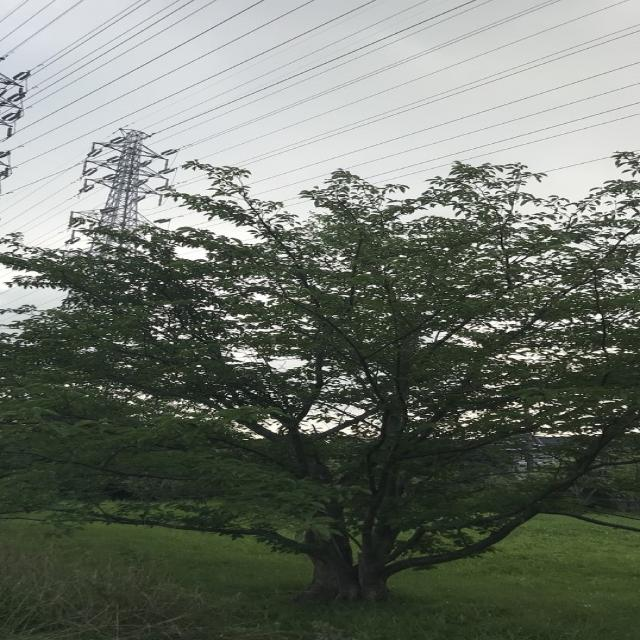sakura: (0, 150, 640, 604)
